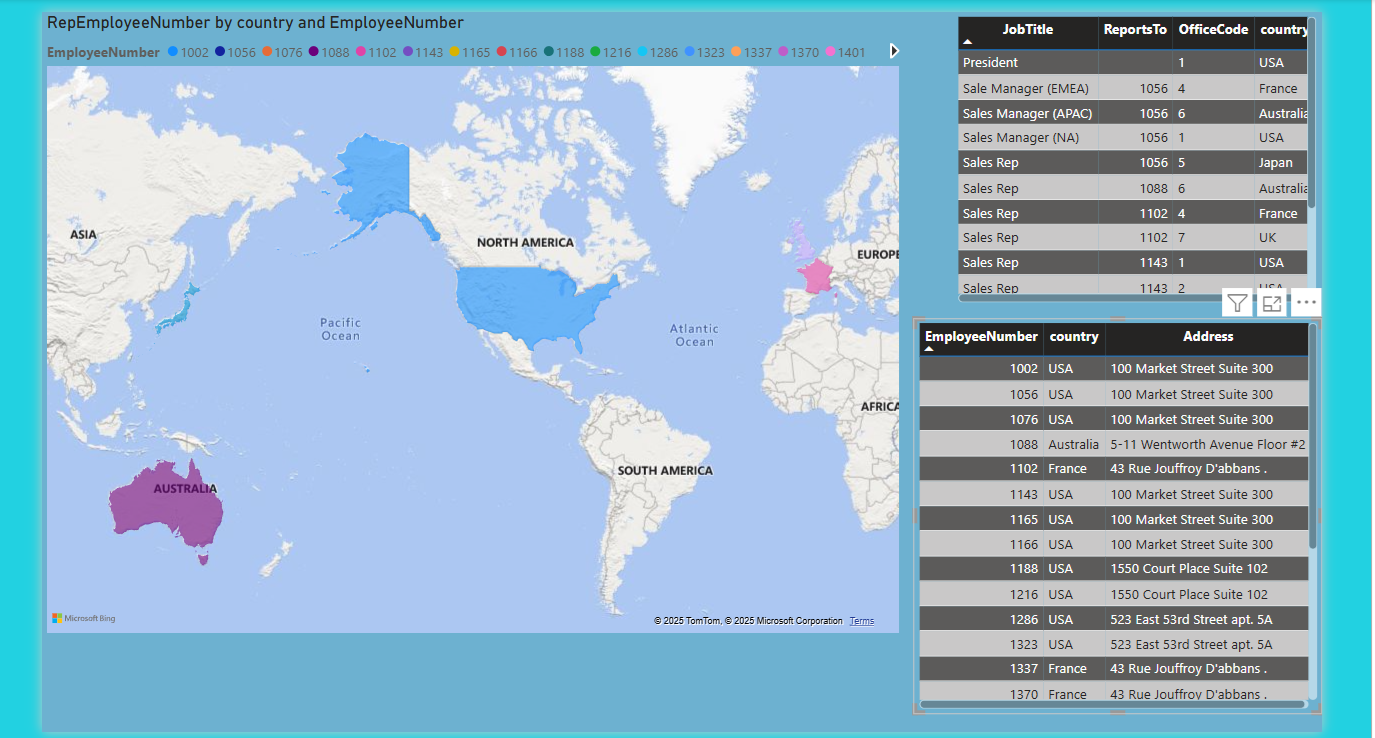

The dashboard page shown, as its layout file describes it:
{"tool":"powerbi","page":{"name":"Employee Details","canvas":[1280,720],"ordinal":3},"visuals":[{"type":"filledMap","title":"RepEmployeeNumber by country and EmployeeNumber","fields":{"Series":["classicmodels employees.EmployeeNumber"],"Category":["classicmodels offices.country"]},"box":[0,0,862.3,625.9],"z":0},{"type":"tableEx","fields":{"Values":["classicmodels employees.JobTitle","classicmodels employees.ReportsTo","classicmodels employees.OfficeCode","classicmodels offices.country"]},"box":[910.6,0,369,295.5],"z":1000},{"type":"tableEx","fields":{"Values":["classicmodels employees.EmployeeNumber","classicmodels offices.country","classicmodels offices.Address"]},"box":[870.8,306.3,408.8,395.6],"z":2000}]}

Visuals, with their boxes on the page's 1280x720 design canvas (x1, y1, x2, y2). These are canvas units, not pixel positions in the 1375x738 screenshot, which may show the page scaled, cropped or inside an application window:
"RepEmployeeNumber by country and EmployeeNumber" filledMap: bbox=(0, 0, 862, 626)
tableEx - classicmodels employees.JobTitle x classicmodels employees.ReportsTo: bbox=(911, 0, 1280, 296)
tableEx - classicmodels employees.EmployeeNumber x classicmodels offices.country: bbox=(871, 306, 1280, 702)
